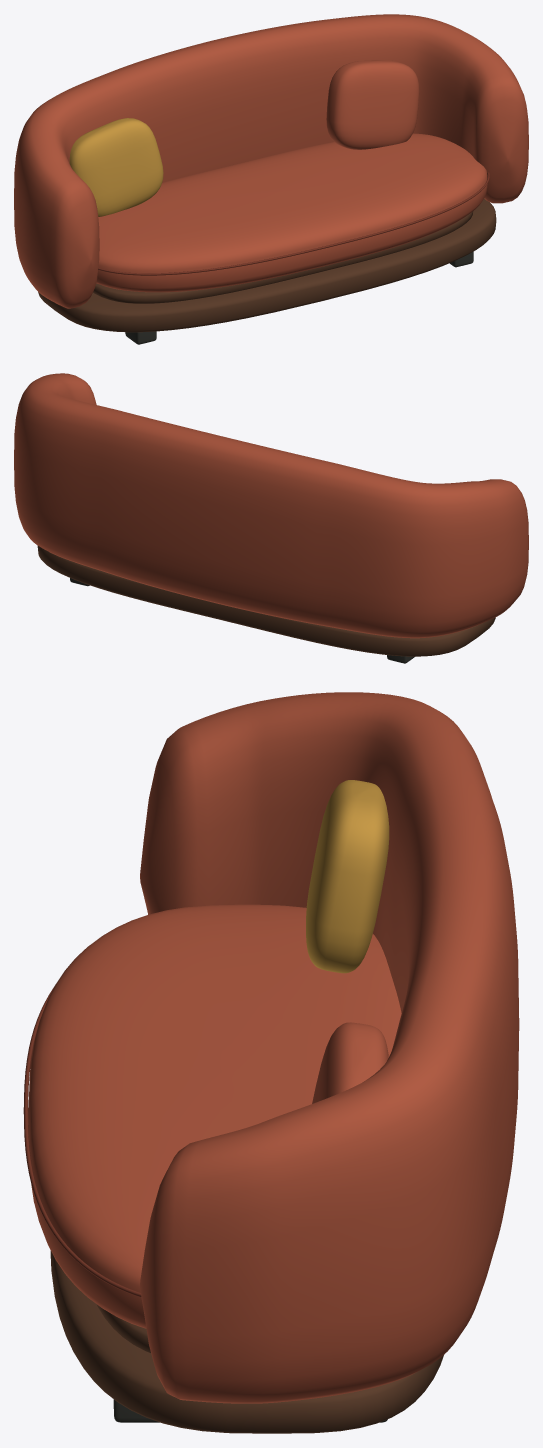
Rendered from rr_crescent_sofa_v2.glb.
3 renders of one model, top to bottom at view 1: azimuth 30°, elevation 25°; view 2: azimuth 150°, elevation 25°; view 3: azimuth 270°, elevation 25°, orthographic. The views are drawn at different scales.
Visible parts, largest first — view 1: Sweeping upholstered shell.002, Single deep bench cushion.002, Recessed walnut plinth.002, Loose scatter cushion.005, Loose scatter cushion.004, Concealed seat support.001, Continuous seat welt.002; view 2: Sweeping upholstered shell.002, Recessed walnut plinth.002; view 3: Sweeping upholstered shell.002, Single deep bench cushion.002, Recessed walnut plinth.002, Loose scatter cushion.004, Loose scatter cushion.005, Continuous seat welt.002, Concealed seat support.001.
Boxes of the visible parts, box(x1,y1,x2,y2) form: Sweeping upholstered shell.002: box(14, 14, 528, 308); Single deep bench cushion.002: box(96, 133, 487, 292); Recessed walnut plinth.002: box(38, 198, 496, 332); Loose scatter cushion.005: box(326, 60, 419, 149); Loose scatter cushion.004: box(69, 118, 163, 216); Concealed seat support.001: box(93, 211, 473, 303); Continuous seat welt.002: box(98, 172, 489, 275); Sweeping upholstered shell.002: box(14, 373, 528, 638); Recessed walnut plinth.002: box(37, 546, 495, 656); Sweeping upholstered shell.002: box(140, 692, 519, 1403); Single deep bench cushion.002: box(28, 904, 401, 1328); Recessed walnut plinth.002: box(50, 1251, 443, 1433); Loose scatter cushion.004: box(306, 780, 389, 973); Loose scatter cushion.005: box(312, 1022, 388, 1103); Continuous seat welt.002: box(23, 986, 141, 1297); Concealed seat support.001: box(97, 1304, 150, 1352).
Size of the model in its own units: 11.56 by 4.55 by 5.14.
